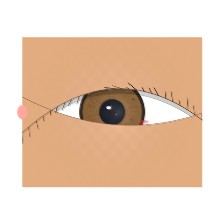hemorrhage_spot: (67, 93, 156, 164)
